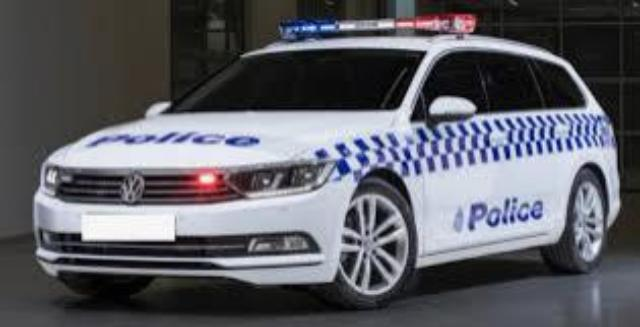police: (30, 12, 624, 315)
